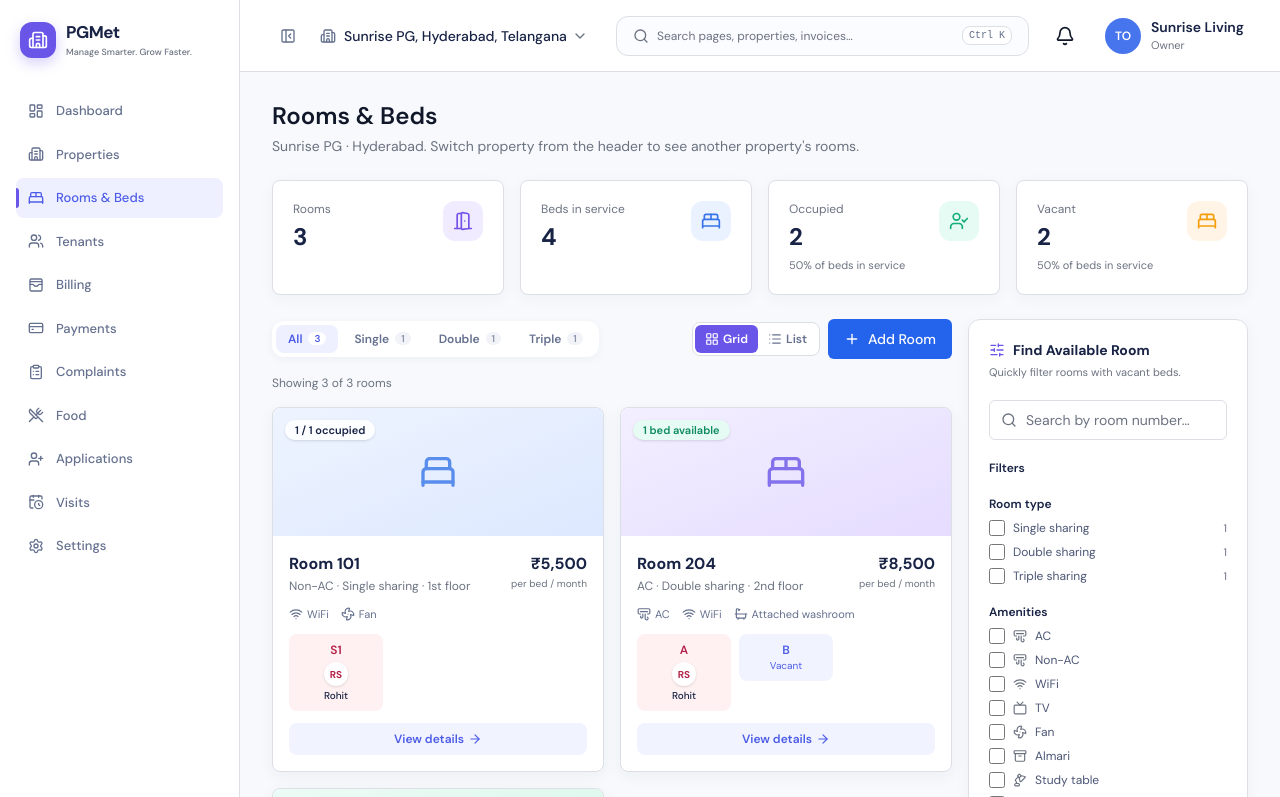
Test: Rooms & Beds page › type tabs, floor and free-capacity filters narrow the grid and live in the URL
Expected: the list named "Beds in room 204" is shown, [637,634,833,711]
Click the button "Single 1": {"x": 383, "y": 338} [342,324,423,352]
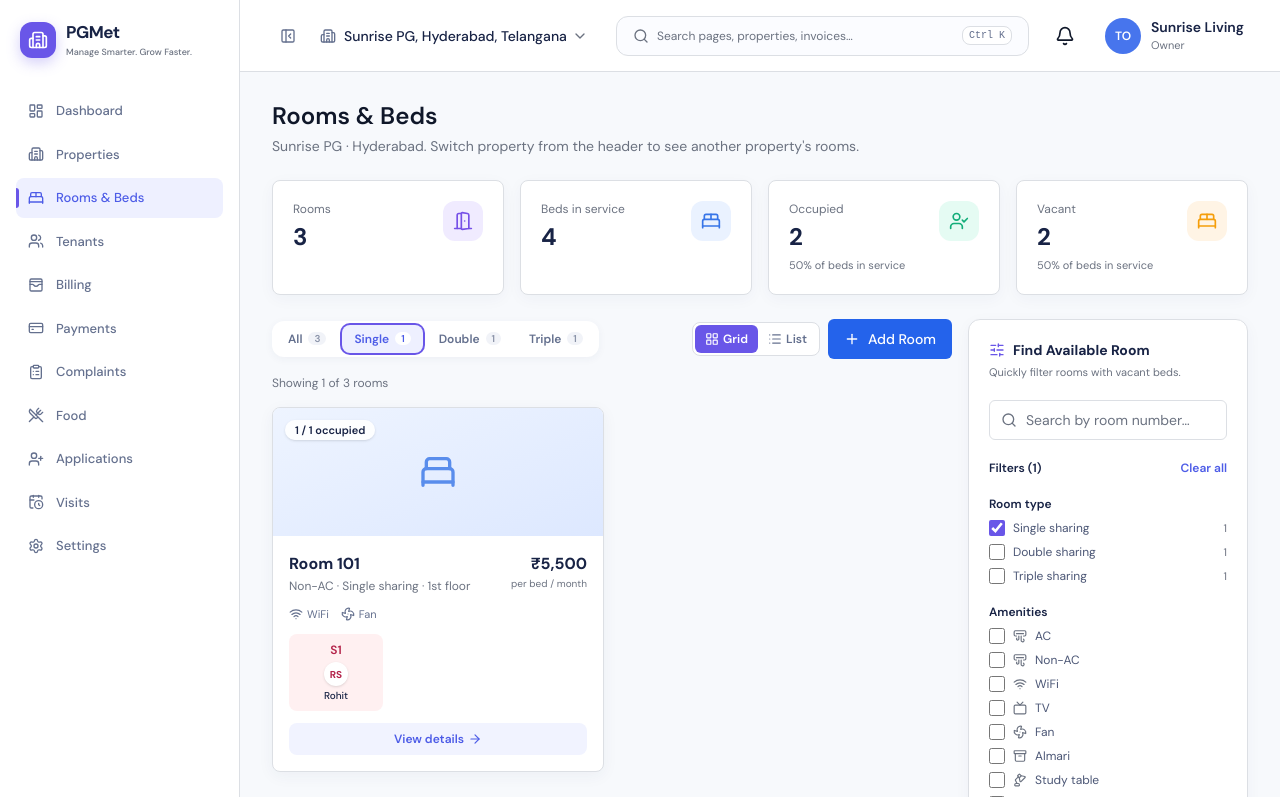
Expected: the heading "Room 101" is shown, [289,552,360,574]
Now the heading "Room 204" is gone
Click the button "Clear all": {"x": 1204, "y": 468} [1180,460,1227,476]
(page scrolled)
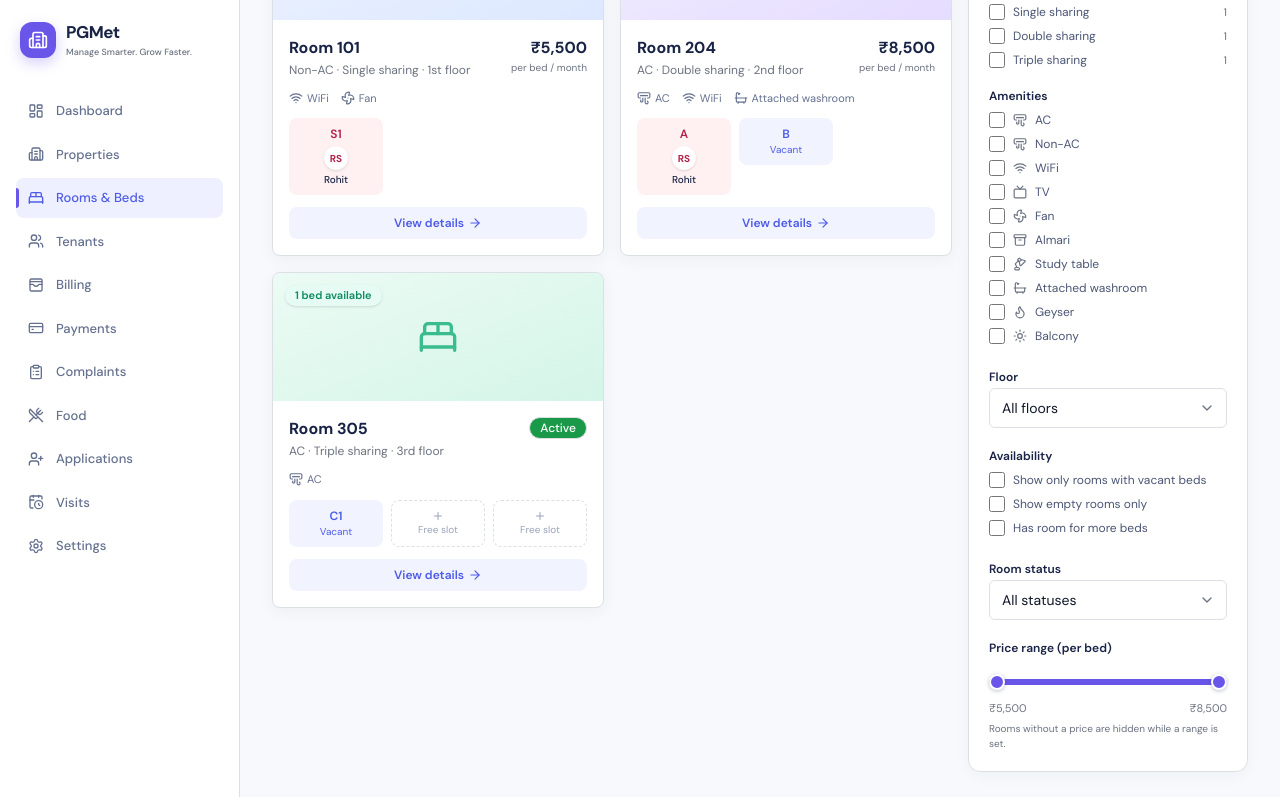
Select "3rd floor" in the dropdown labelled "Floor": {"x": 1108, "y": 408} [989,388,1227,428]
(page scrolled)
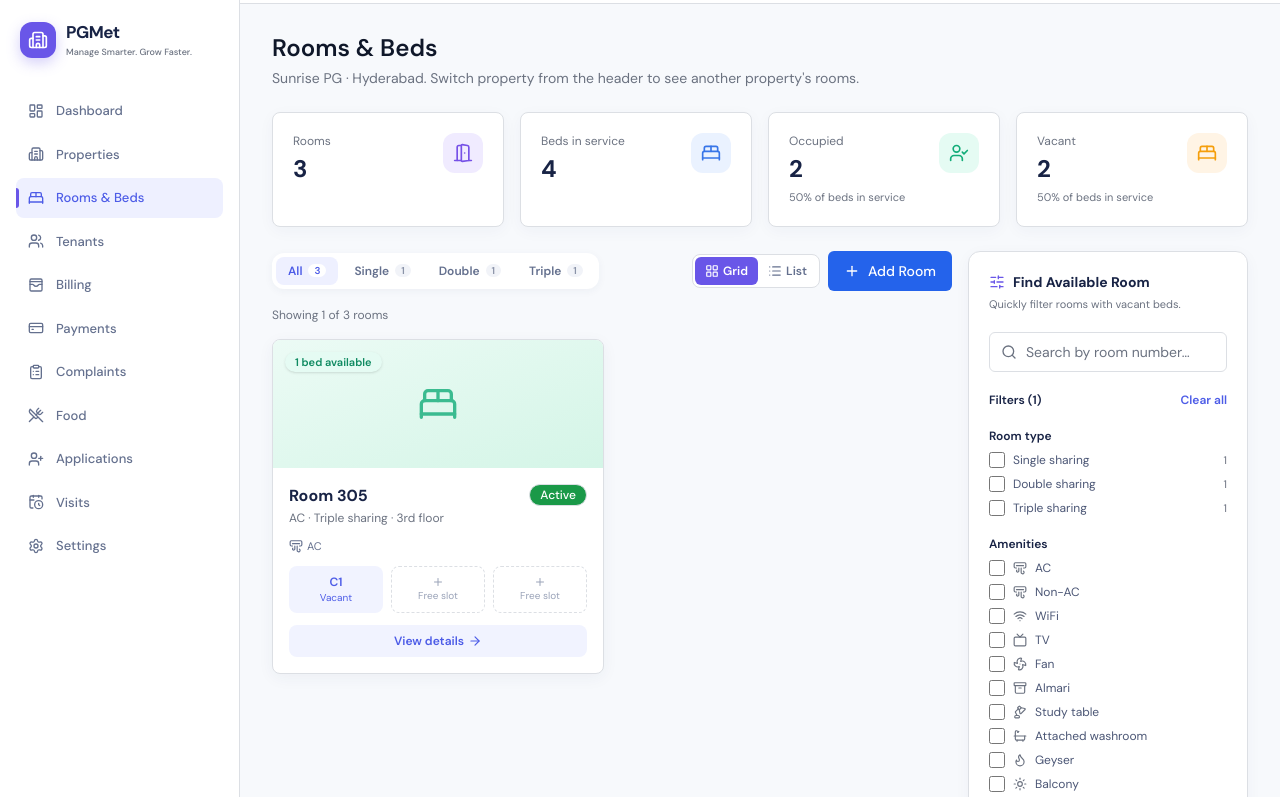
Now the heading "Room 305" is shown, box [289,484,368,506]
Now the heading "Room 101" is gone
Click the button "Clear all": {"x": 1204, "y": 400} [1180,392,1227,408]
(page scrolled)
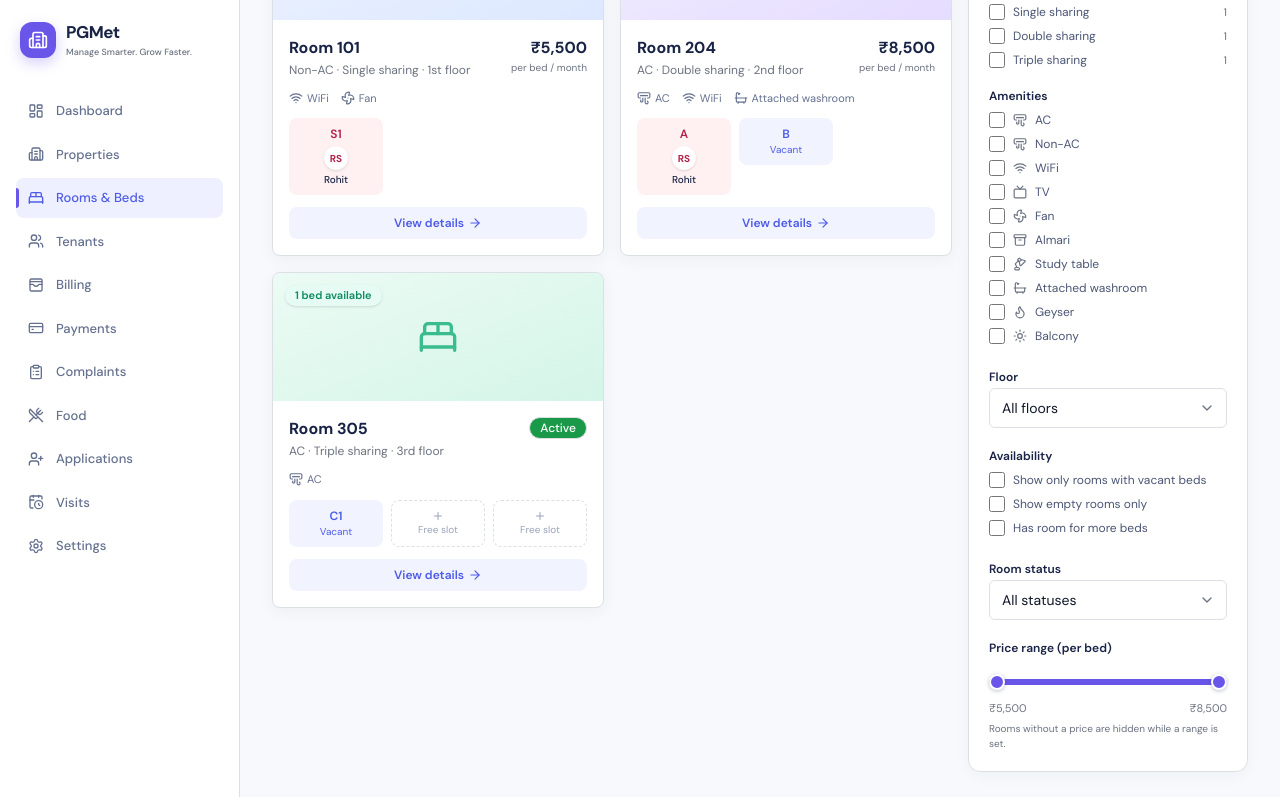
Click the checkbox labelled "Has room for more beds": {"x": 997, "y": 528} [989,520,1005,536]
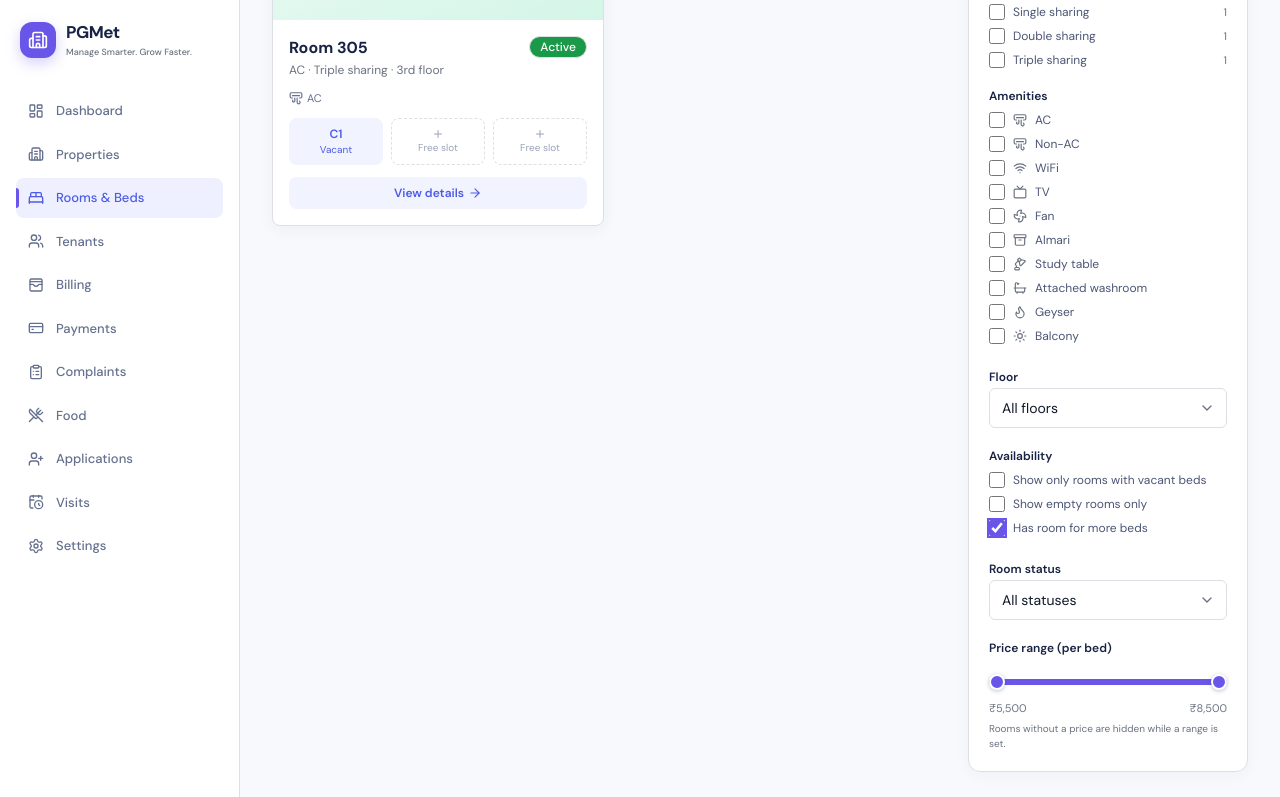
Now the heading "Room 305" is shown, box [289,36,368,58]
Now the heading "Room 101" is gone
